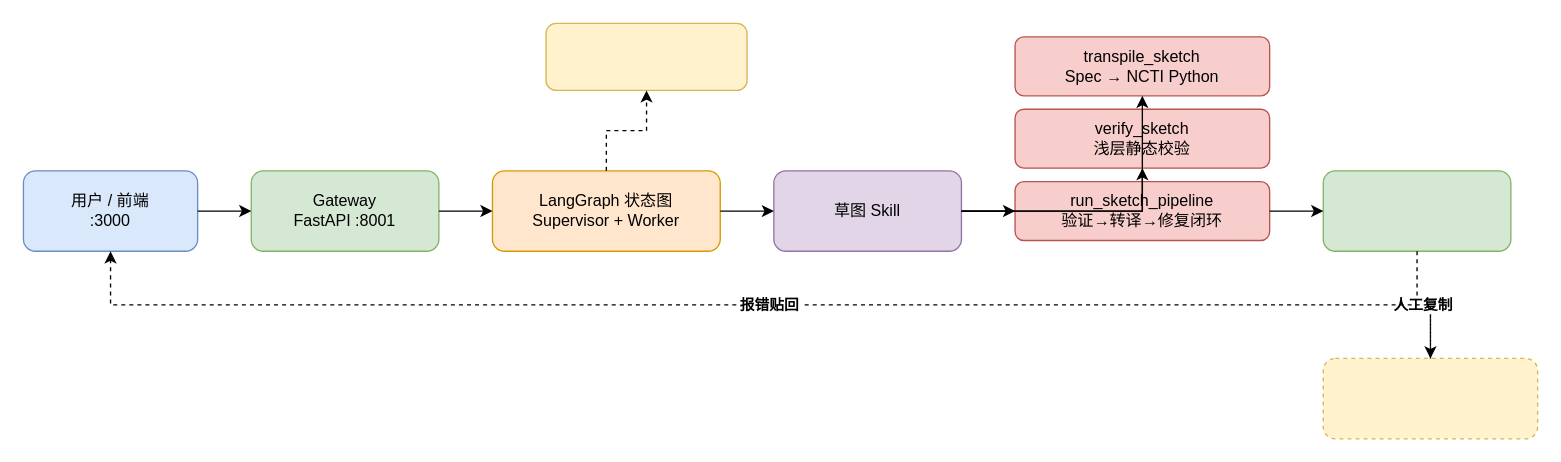
Some shapes in this 1561 by 462 pixel diagram are drawn without their labels. The box of each missing label's shape, as (x1, y1, x2, y2) in pixels:
LLM Qwen3.5-122B: (545, 22, 747, 90)
团队 NCTI 内核软件 渲染 / 求解确认: (1322, 357, 1538, 439)
输出 sketch.py: (1322, 170, 1511, 251)
